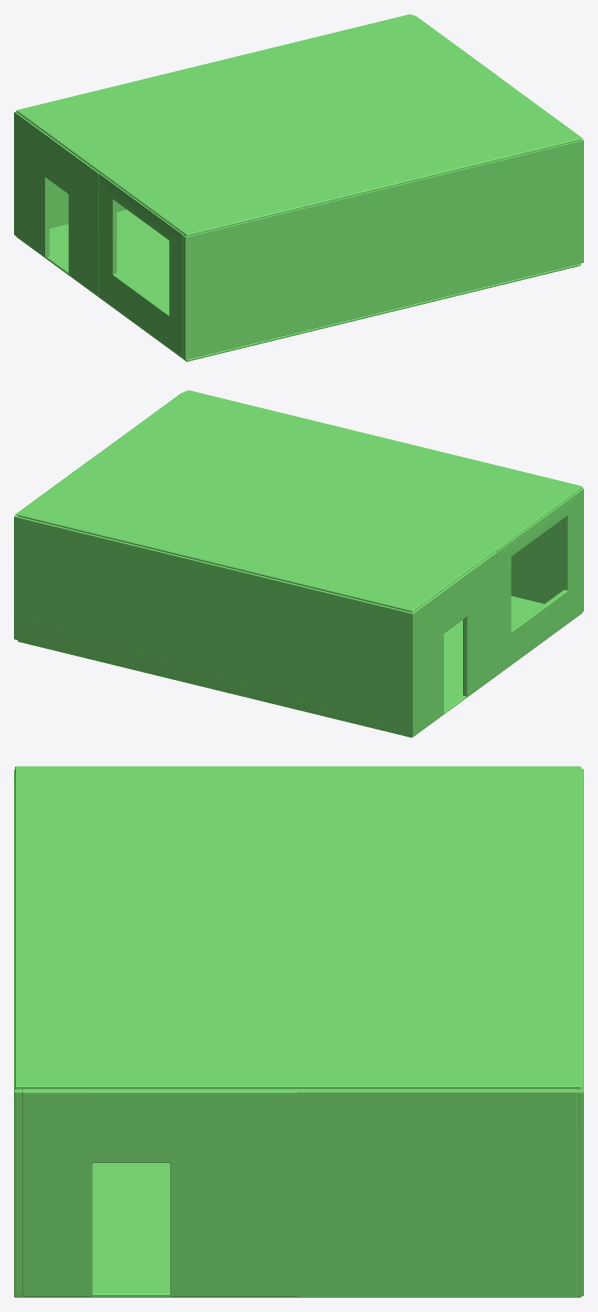
The picture shows the model from 3 angles, top to bottom: view 1: azimuth 30°, elevation 25°; view 2: azimuth 150°, elevation 25°; view 3: azimuth 270°, elevation 25°; orthographic projection. The views are drawn at different scales.
Parts seen in each view (by area): view 1: Uv_004; view 2: Uv_004; view 3: Uv_004.
Boxes of the visible parts, x1=… form: Uv_004: x1=14, y1=14, x2=583, y2=361; Uv_004: x1=14, y1=390, x2=583, y2=737; Uv_004: x1=14, y1=766, x2=583, y2=1297.
Bounding box in the file's own units: 1014 × 309 × 752.
